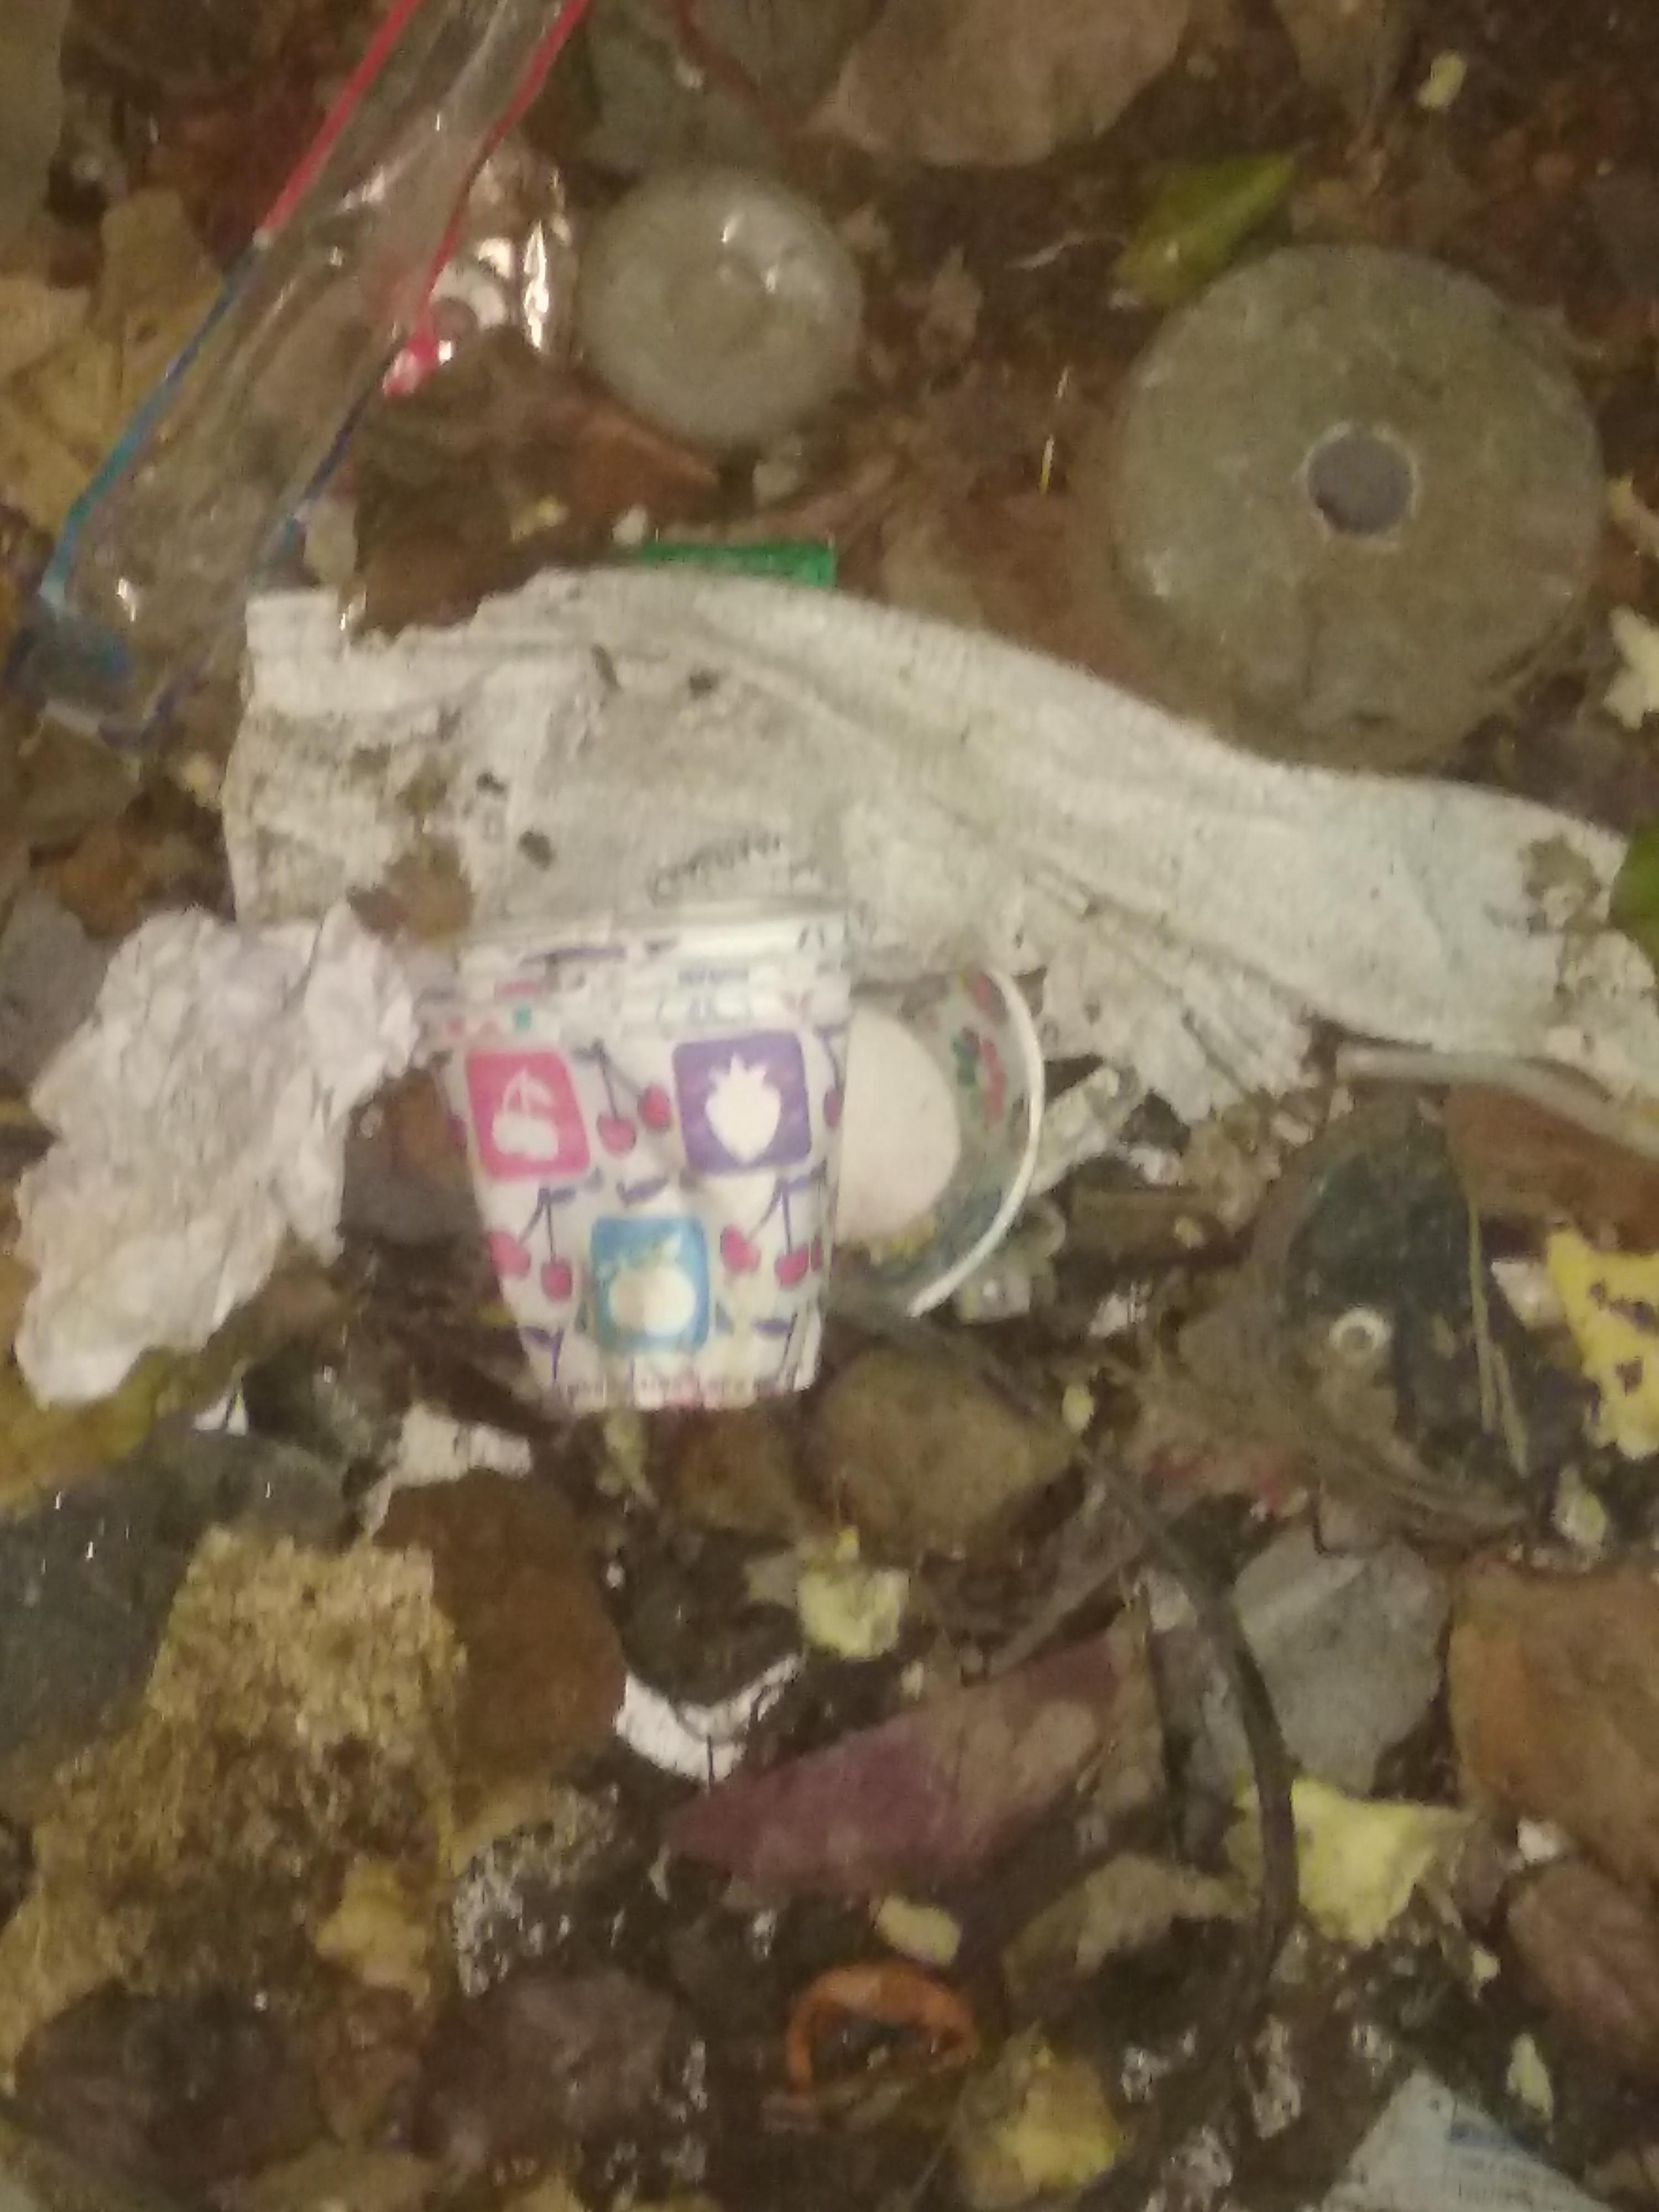trash: (10, 0, 1659, 1435)
